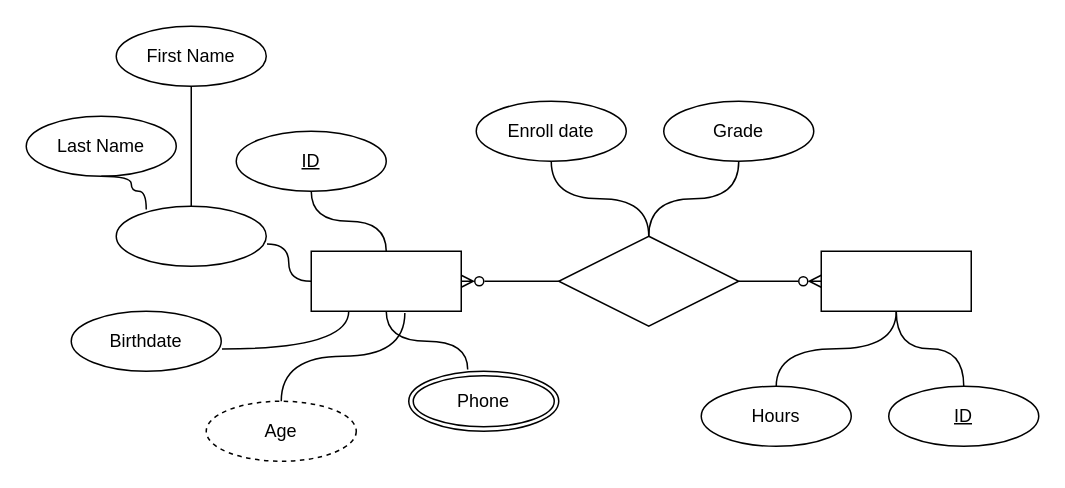
Some shapes in this 1065 by 488 pixel diagram are drawn without their labels. The centre of each missing label's shape, as x and y in pixels:
"Course" belongs at [895,280].
"Enroll" belongs at [648,280].
"Name" belongs at [190,235].
"Student" belongs at [385,280].
